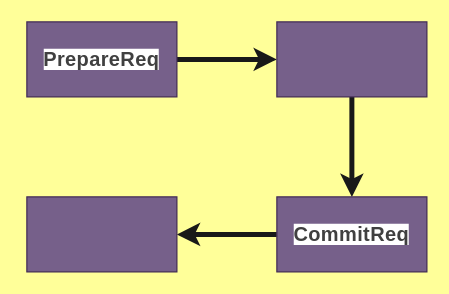
The diagram is 449 pixels wide and 294 high, and some of its shapes have lost their labels. The shapes that lost their labels are listed below. From the top down, each one's centre as x and y in pixels, then its label:
pixel 351 59: SignReq
pixel 101 234: ViewChangeReq
